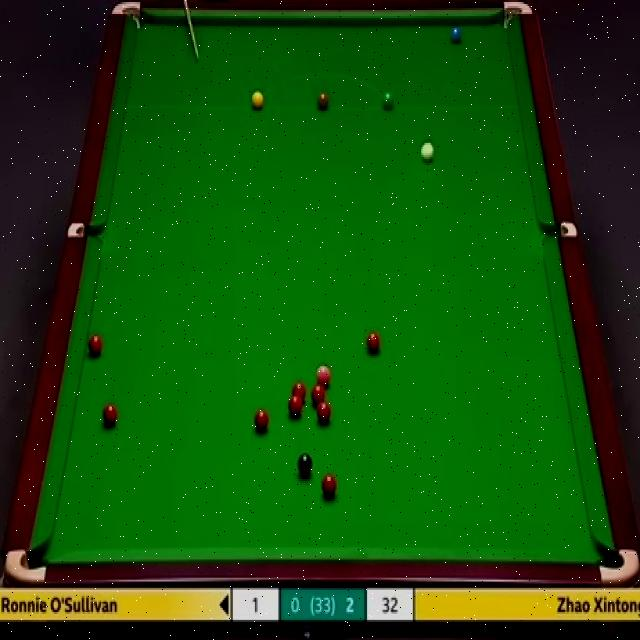black-ball: (297, 451, 315, 480)
blue-ball: (449, 22, 464, 47)
brown-ball: (317, 91, 330, 112)
green-ball: (381, 91, 395, 112)
pink-ball: (313, 363, 331, 387)
red-ball: (101, 402, 119, 429), (365, 330, 381, 357), (322, 475, 339, 499), (287, 395, 303, 419), (87, 333, 102, 358), (254, 408, 268, 434), (290, 381, 307, 402), (317, 401, 331, 424), (310, 385, 326, 404)
white-ball: (420, 138, 437, 166)
yellow-ball: (251, 90, 265, 111)
